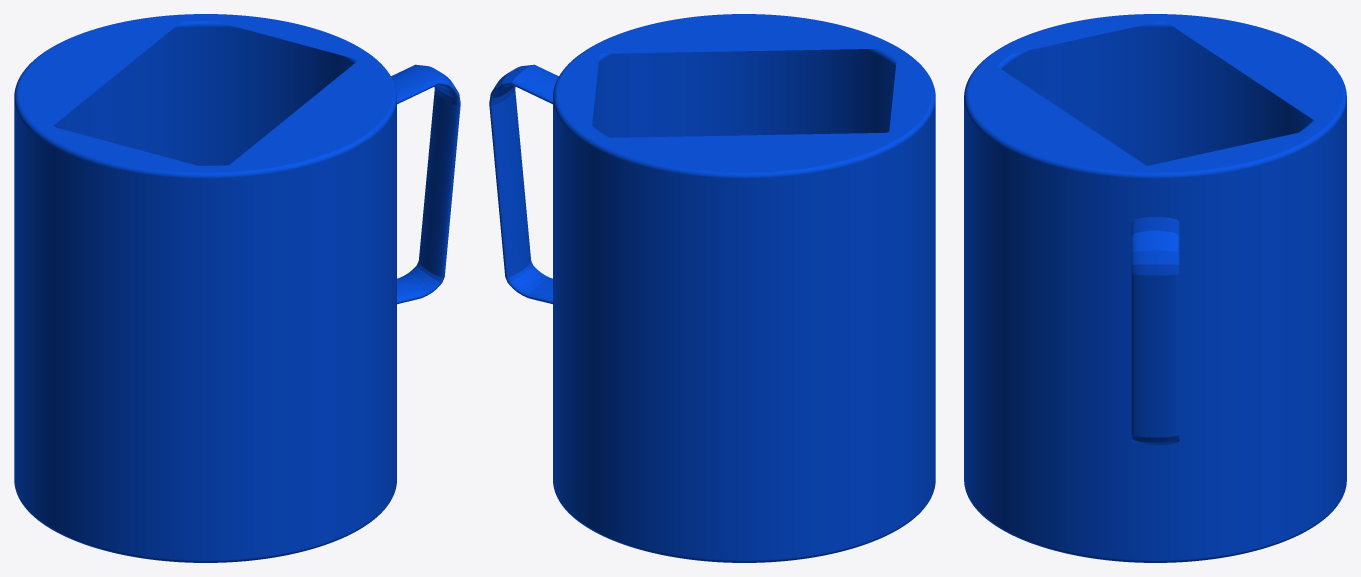
File: bluemug.fbx
The picture shows the model from 3 angles, left to right: view 1: azimuth 30°, elevation 25°; view 2: azimuth 150°, elevation 25°; view 3: azimuth 270°, elevation 25°; orthographic projection.
Visible parts, largest first — view 1: Cylinder.002, Cylinder.001; view 2: Cylinder.002, Cylinder.001; view 3: Cylinder.002, Cylinder.001.
Part boxes in pixels (x1,y1,x2,y2): Cylinder.002: (14, 14, 396, 562); Cylinder.001: (391, 64, 460, 304); Cylinder.002: (553, 14, 935, 562); Cylinder.001: (489, 64, 558, 304); Cylinder.002: (964, 14, 1346, 562); Cylinder.001: (1131, 217, 1179, 445).
Size of the model in its own units: 9.97 by 9 by 8.
